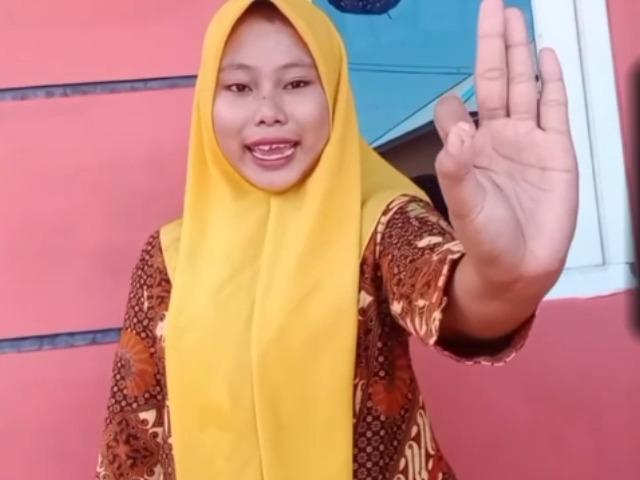F: (426, 0, 582, 286)
